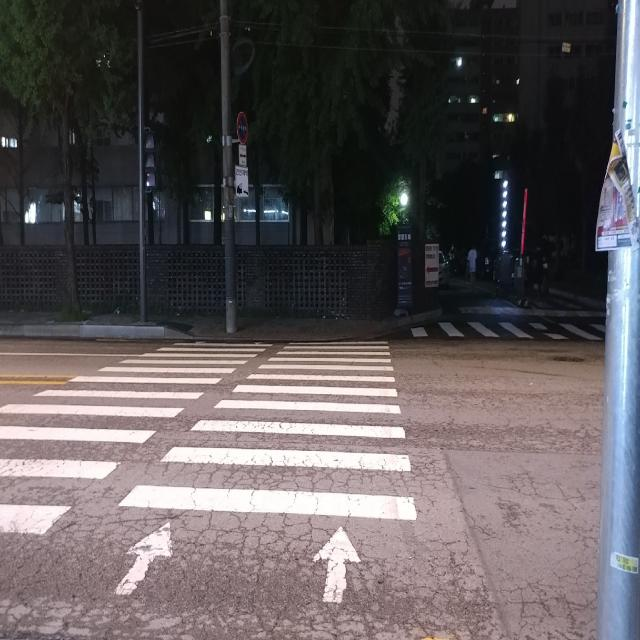횡단보도: (0, 340, 418, 606), (413, 316, 608, 344)
